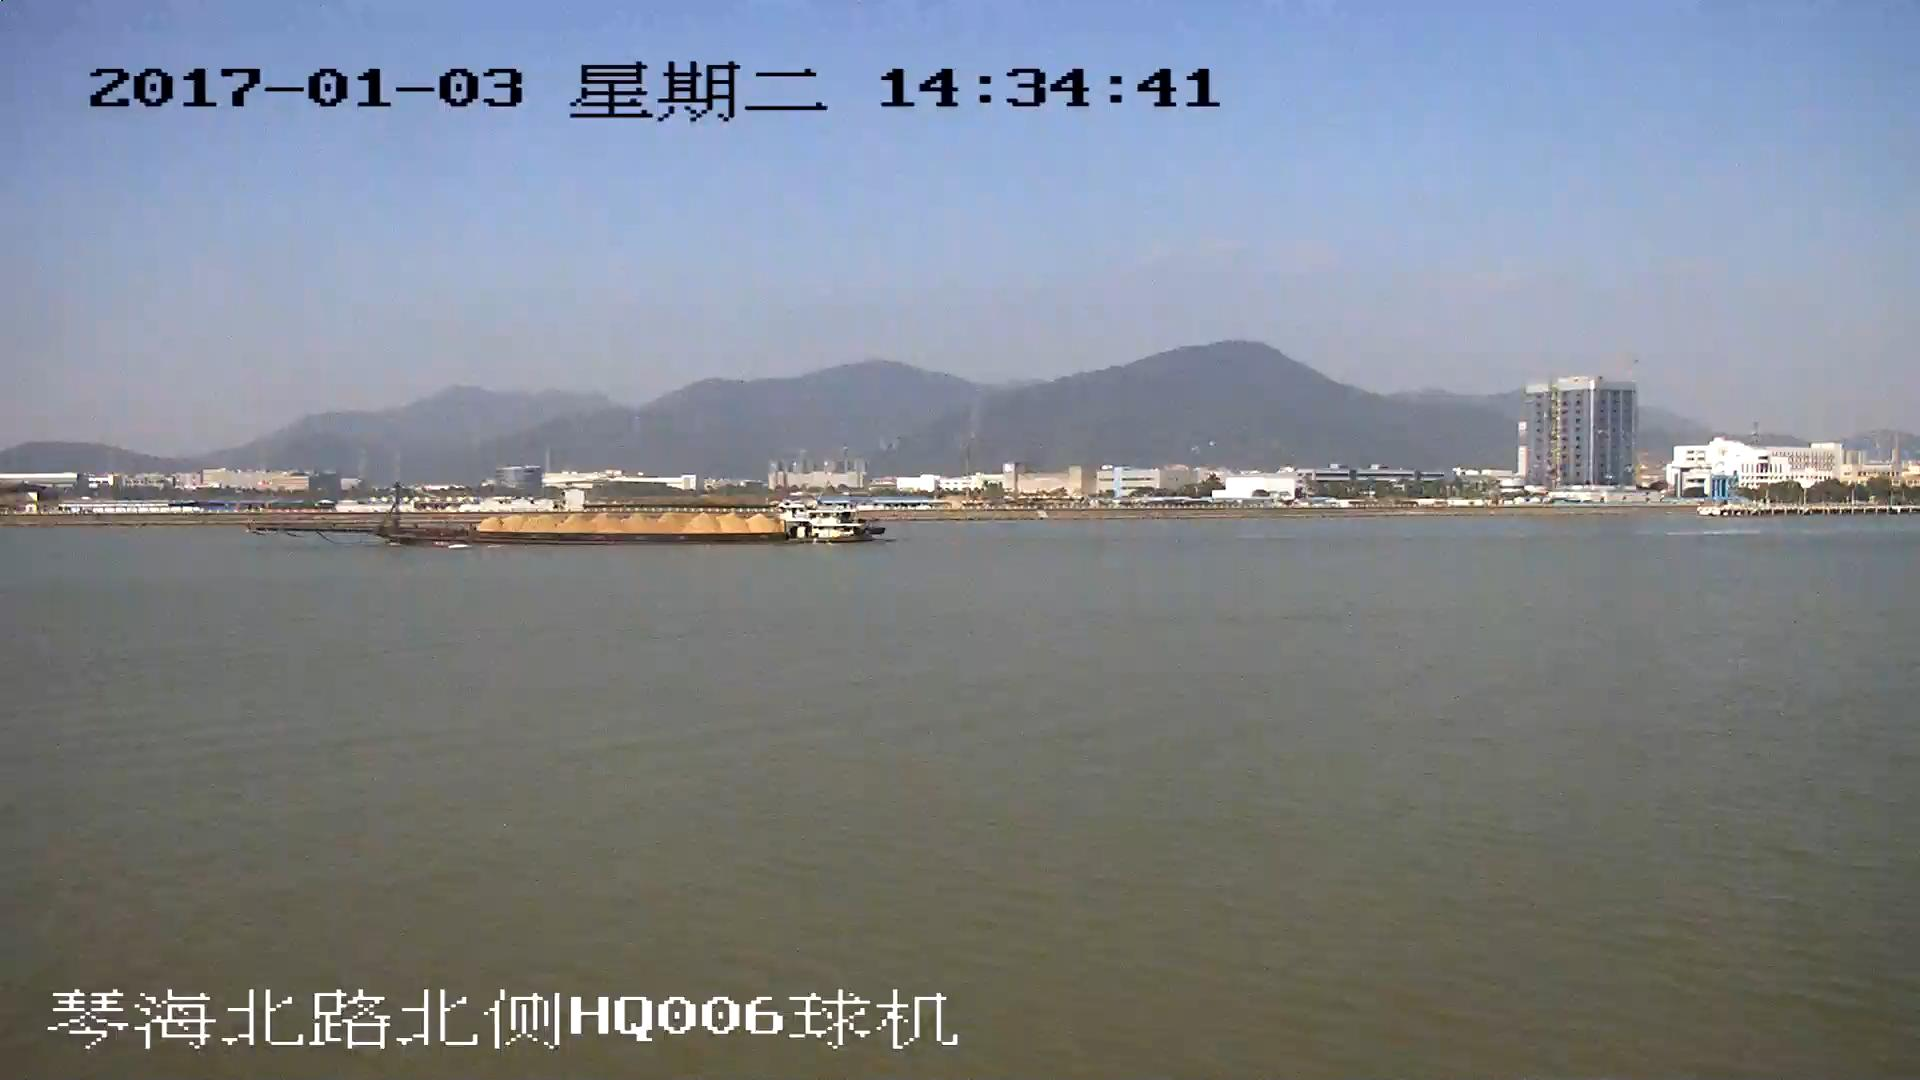ore carrier: (249, 488, 883, 546)
